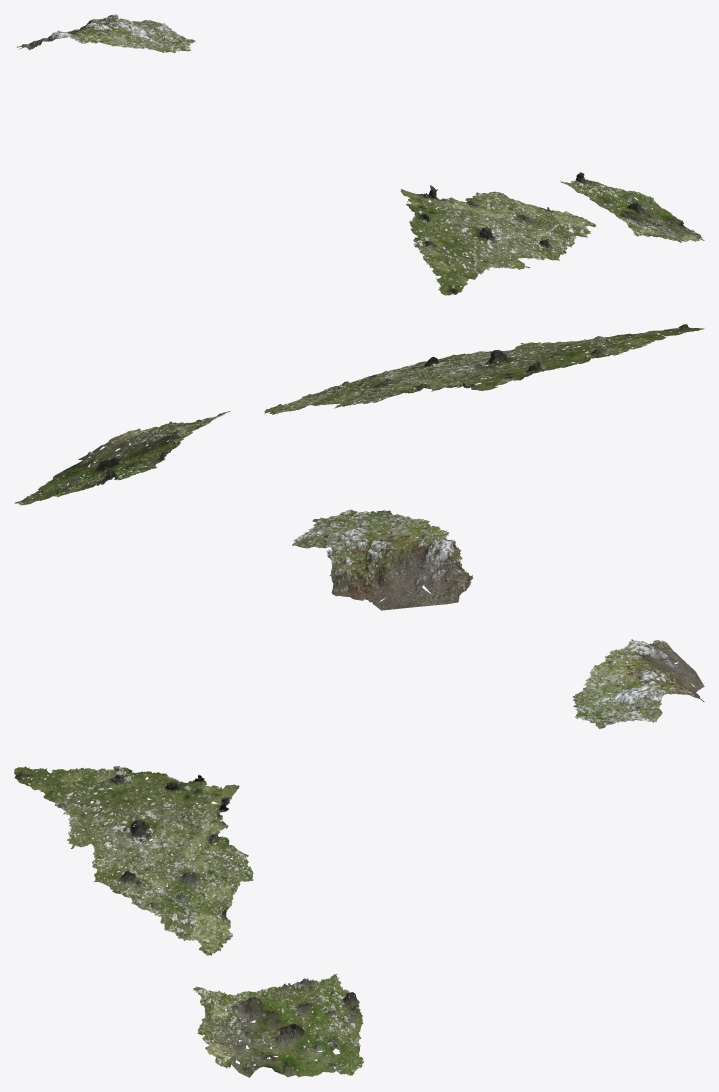
The picture shows the model from 3 angles, top to bottom: view 1: azimuth 30°, elevation 25°; view 2: azimuth 150°, elevation 25°; view 3: azimuth 270°, elevation 25°; orthographic projection. The views are drawn at different scales.
Size of the model in its own units: 82.36 by 29.18 by 93.38.
Materials: 1 (1 with a texture image).
